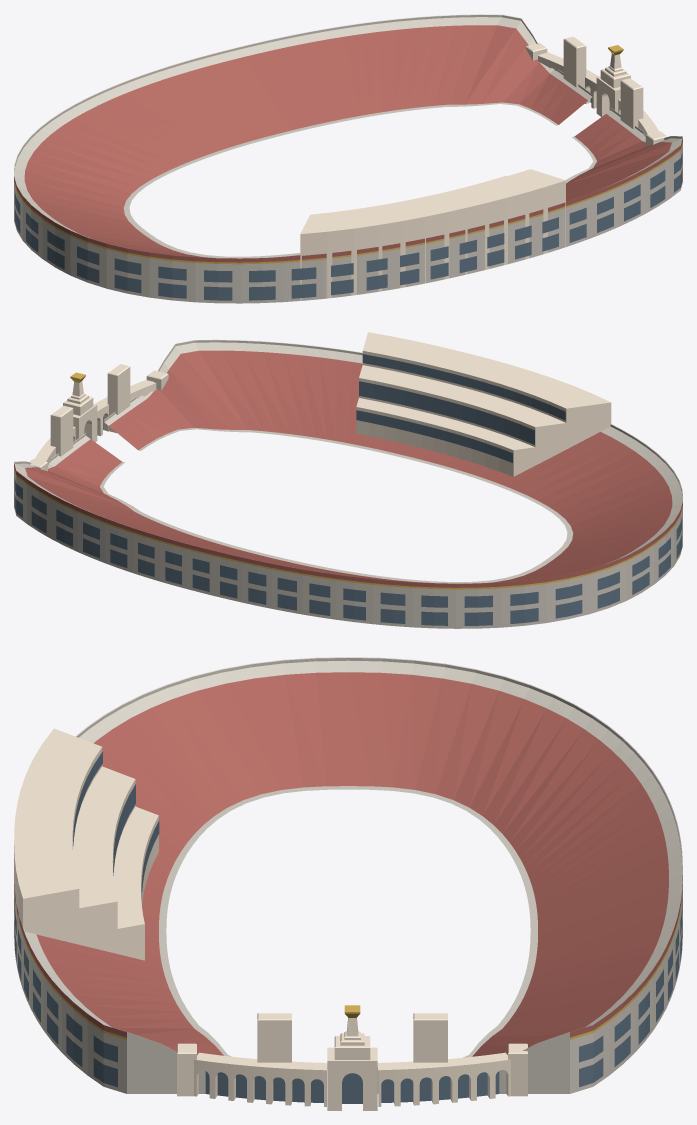
Rendered from la-coliseum.glb.
The picture shows the model from 3 angles, top to bottom: view 1: azimuth 30°, elevation 25°; view 2: azimuth 150°, elevation 25°; view 3: azimuth 270°, elevation 25°; orthographic projection. The views are drawn at different scales.
Visible parts, largest first — view 1: Los Angeles Memorial Coliseum; view 2: Los Angeles Memorial Coliseum; view 3: Los Angeles Memorial Coliseum.
Boxes of the visible parts, x1,y1,x2,y2 form: Los Angeles Memorial Coliseum: (14,14,682,303); Los Angeles Memorial Coliseum: (14,332,682,628); Los Angeles Memorial Coliseum: (14,657,682,1110).
Bounding box in the file's own units: 321 × 36.5 × 232.
